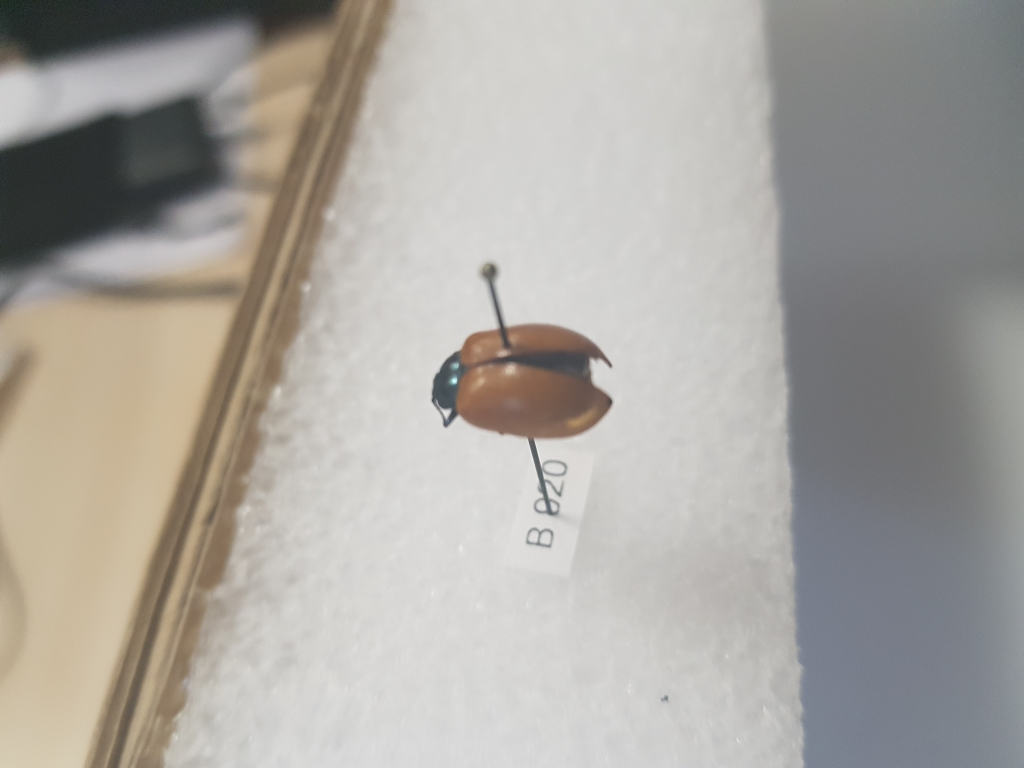Chrysomela_populi: (425, 314, 624, 447)
